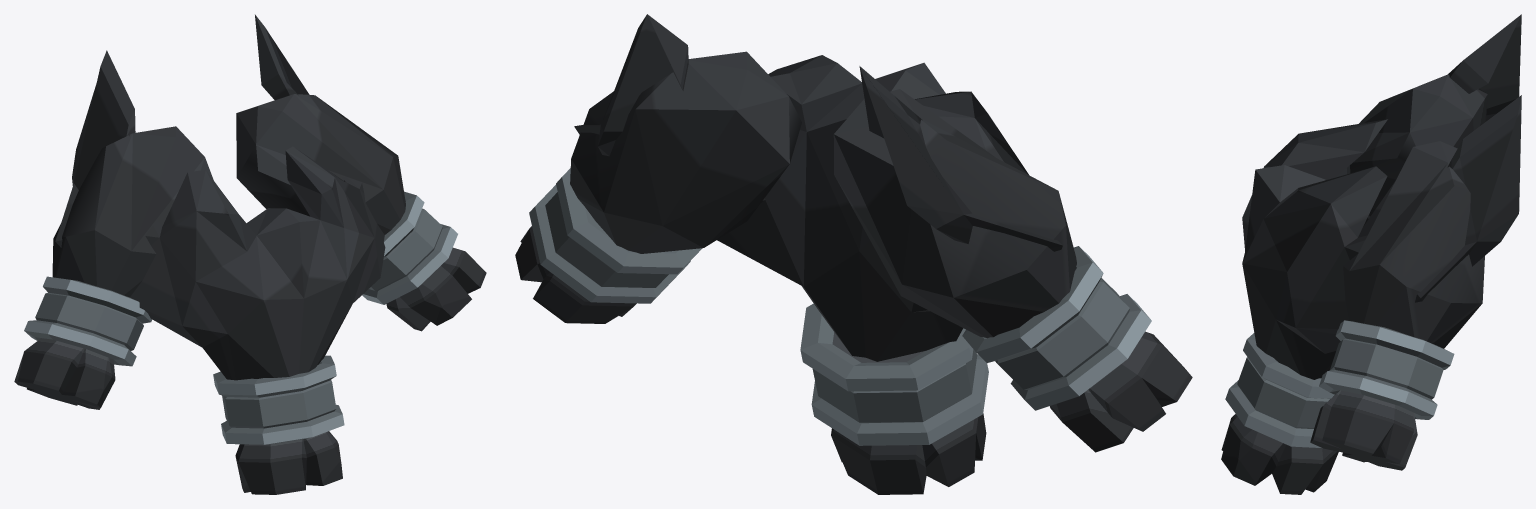
The model's file is SM_Chr_Attach_Beard_03.fbx.
The picture shows the model from 3 angles, left to right: view 1: azimuth 30°, elevation 25°; view 2: azimuth 150°, elevation 25°; view 3: azimuth 270°, elevation 25°; orthographic projection. The views are drawn at different scales.
Parts seen in each view (by area): view 1: SM_Chr_Attach_Beard_03; view 2: SM_Chr_Attach_Beard_03; view 3: SM_Chr_Attach_Beard_03.
Boxes of the visible parts, x1,y1,x2,y2 form: SM_Chr_Attach_Beard_03: (14,14,486,494); SM_Chr_Attach_Beard_03: (515,14,1192,494); SM_Chr_Attach_Beard_03: (1221,14,1521,494).
Bounding box in the file's own units: 42.61 × 33.88 × 21.64.
